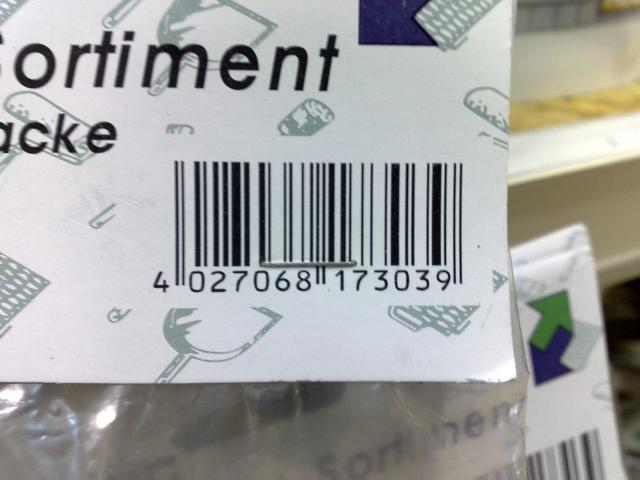Barcode: (139, 142, 469, 302)
